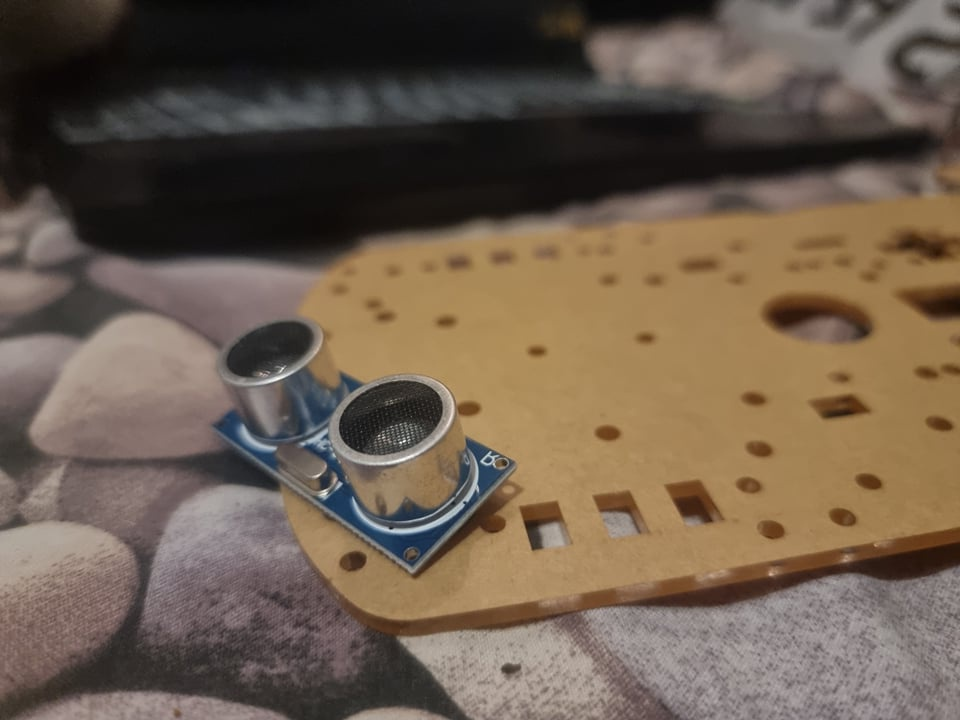SENSOR: (209, 319, 518, 579)
